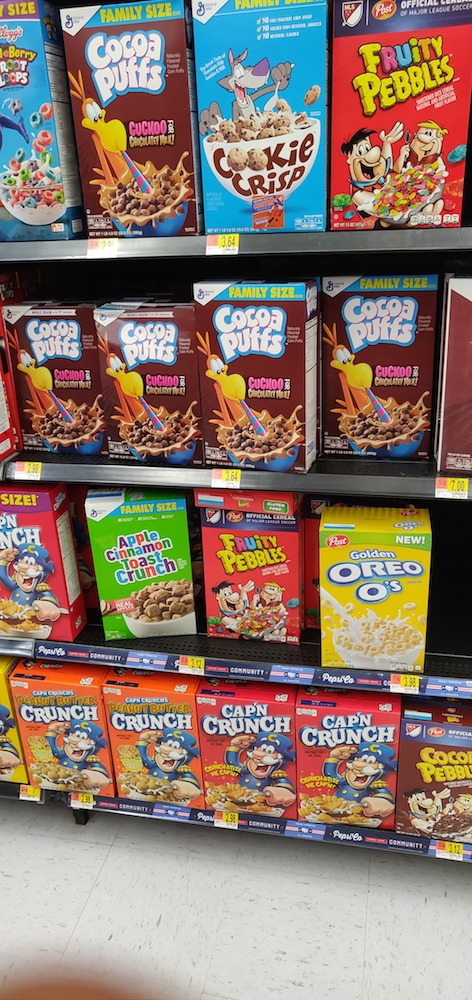Oreo Golden-568301011: (321, 518, 427, 671)
